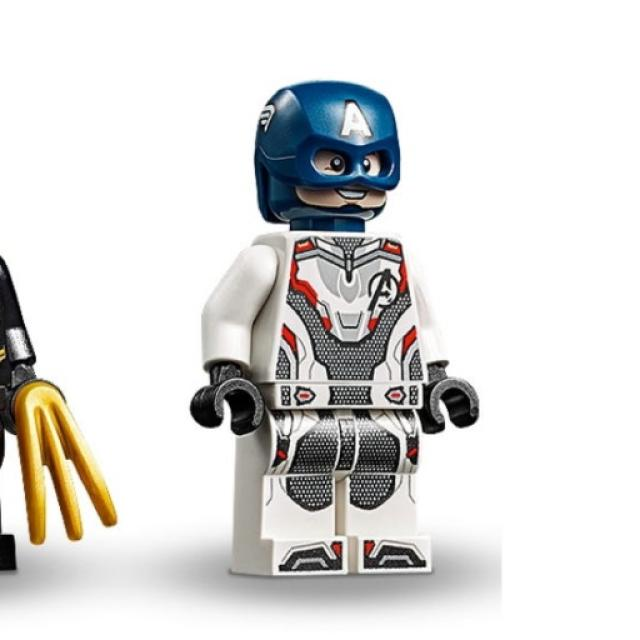Lego-Minifigures: (181, 85, 501, 593)
